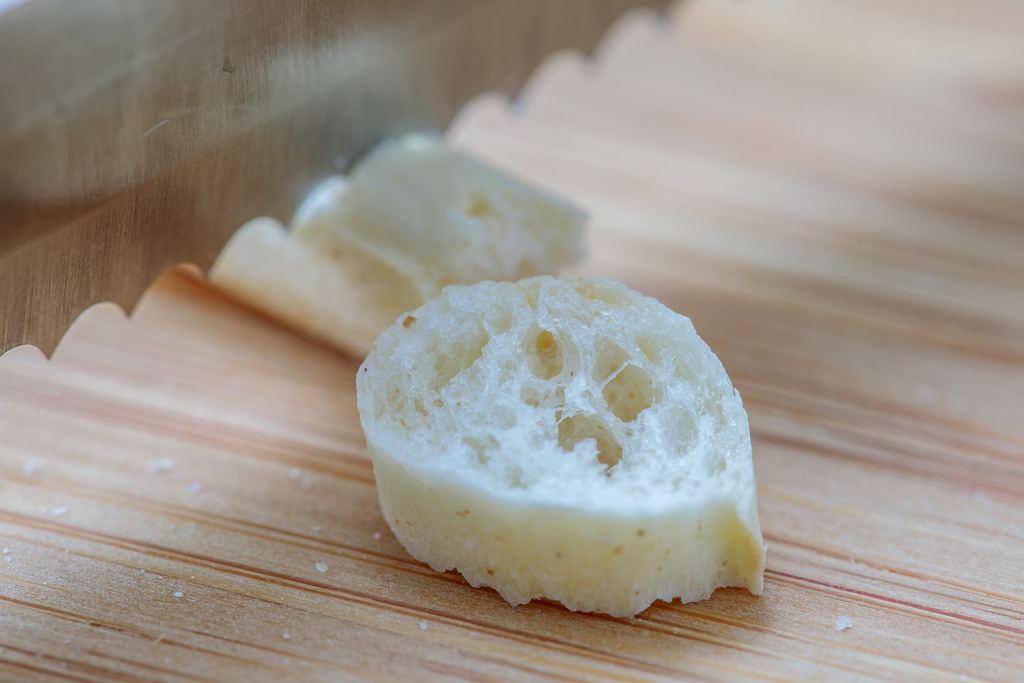slice of bread: (375, 282, 758, 592)
